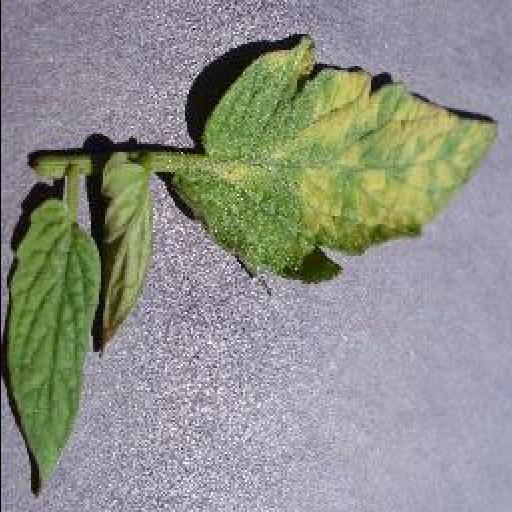disease_tomato: (170, 36, 504, 302)
